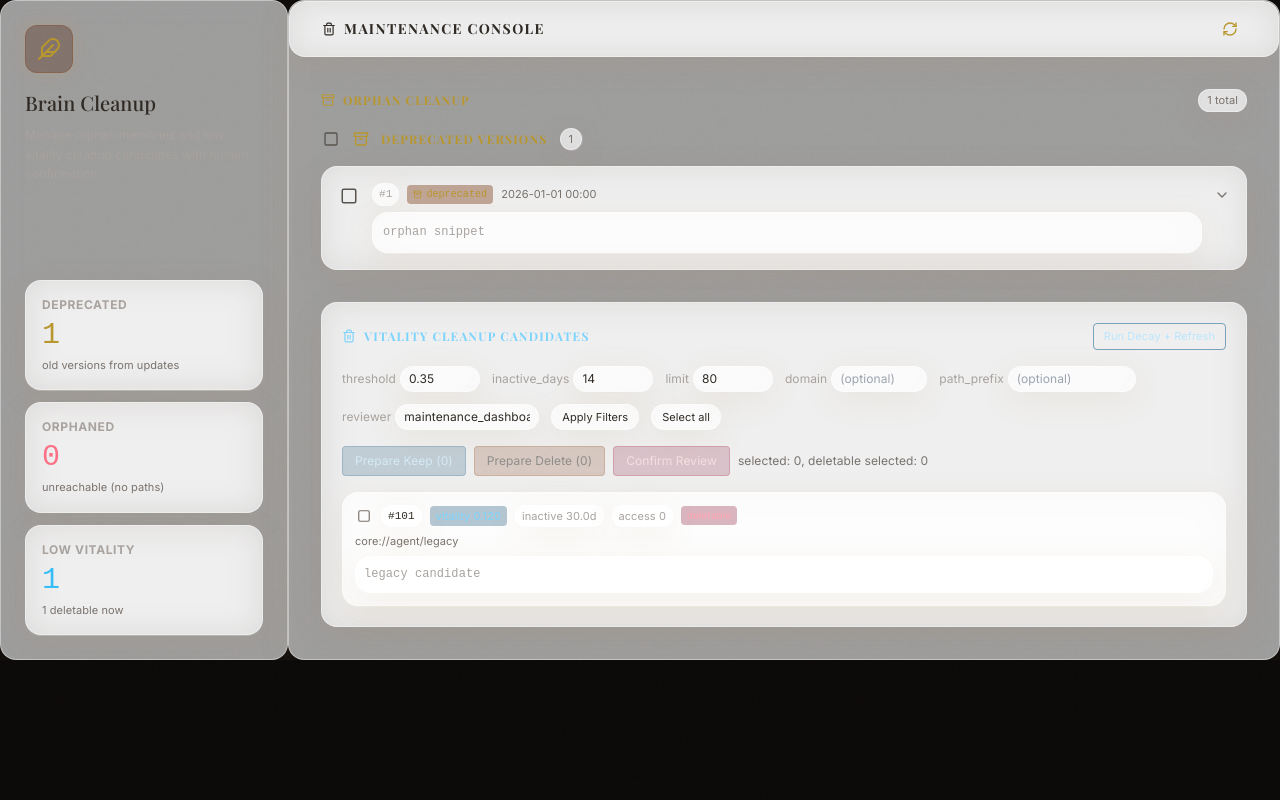
Scenario: MaintenancePage › keeps prepared review for retry when confirm returns structured confirmation_phrase_mismatch detail
The width and height of the screenshot is (1280, 800).
Expected: the text "legacy candidate" is shown, [355, 556, 1213, 593]
Click the button "Select all": (686, 416) [651, 404, 721, 430]
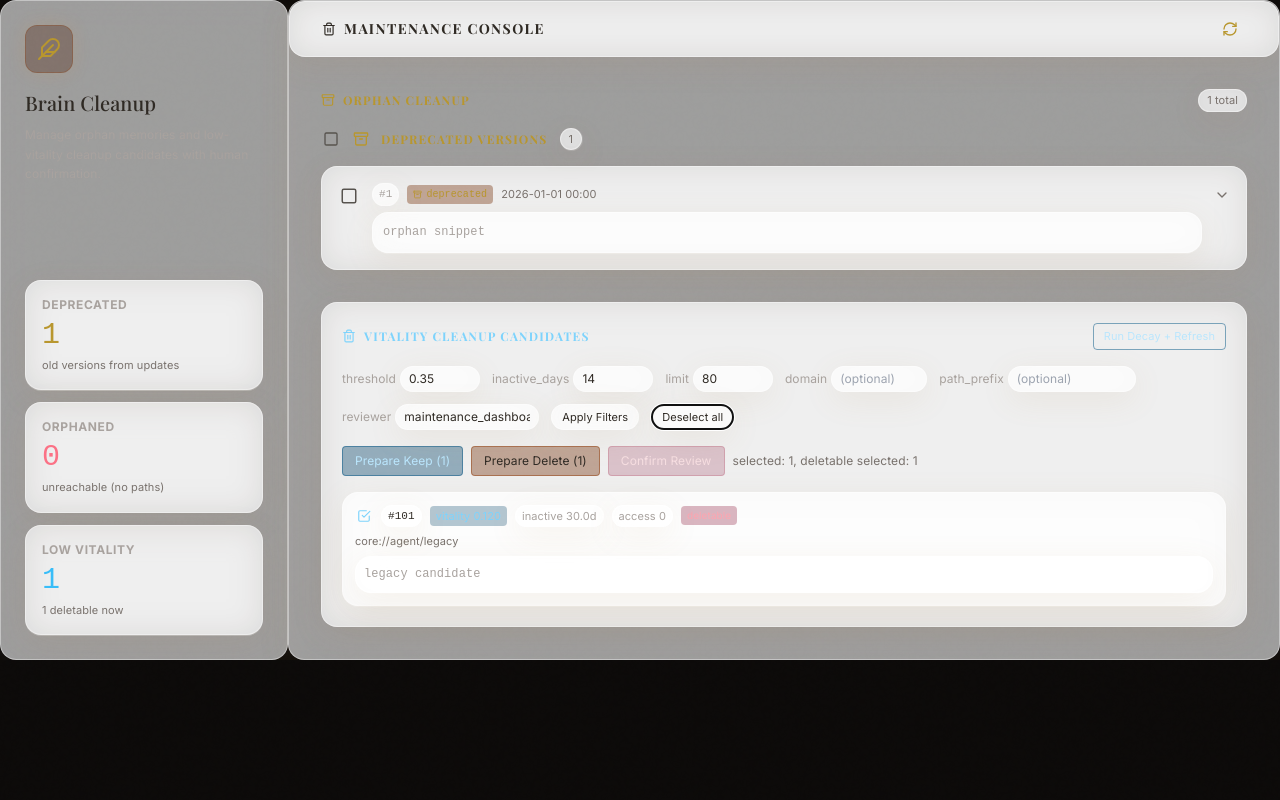
Click the button "Prepare Delete (1)": (535, 460) [471, 446, 600, 476]
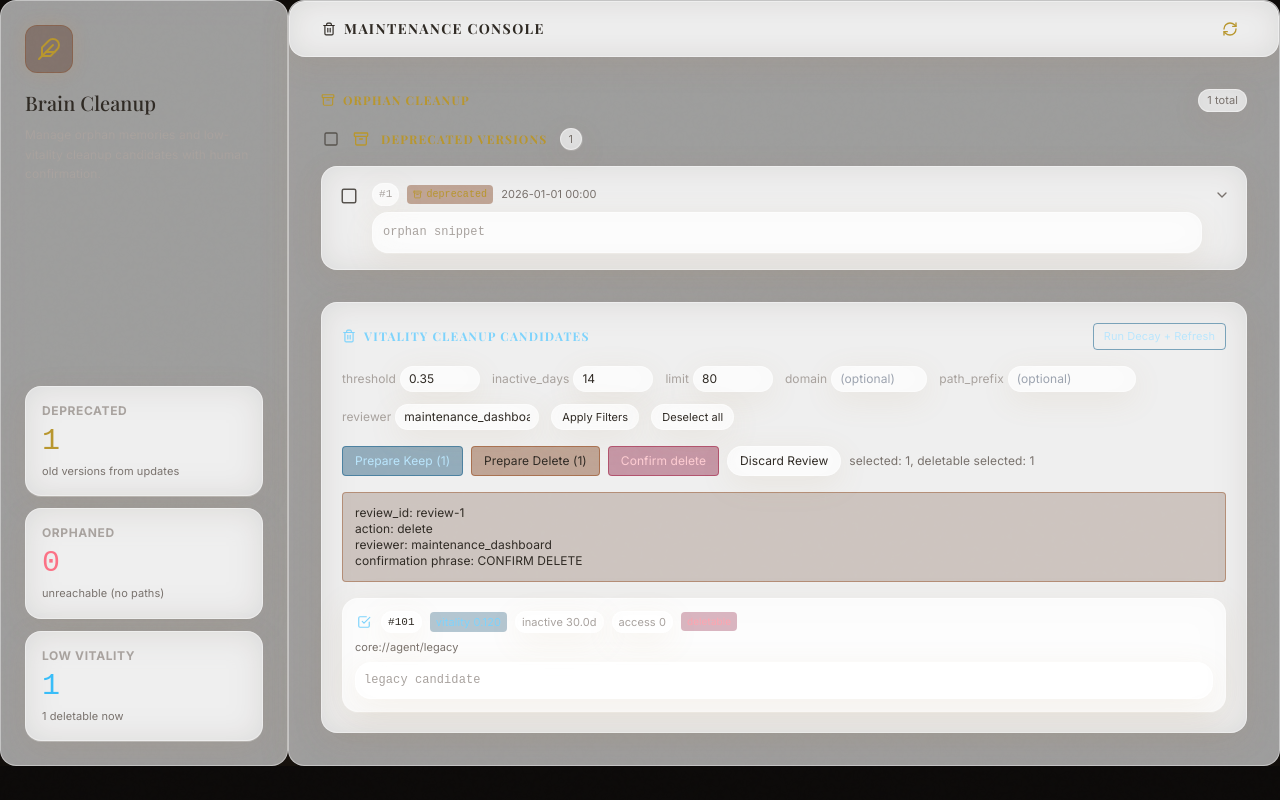
Now the text "review_id: review-1" is shown, box [355, 504, 465, 520]
Click the button "Confirm delete": (663, 460) [608, 446, 719, 476]
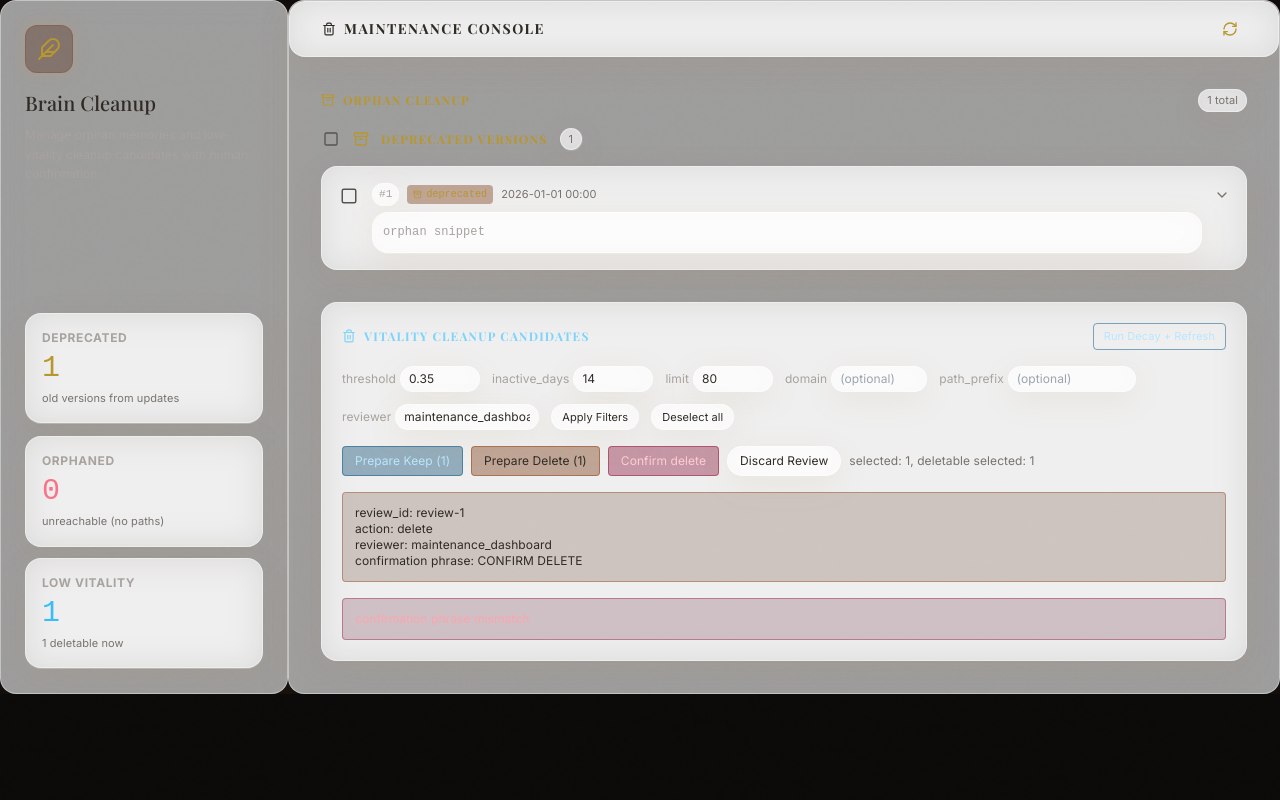
Now the text "review_id: review-1" is shown, box [355, 504, 465, 520]
Now the text "confirmation phrase mismatch" is shown, box [342, 598, 1226, 640]
